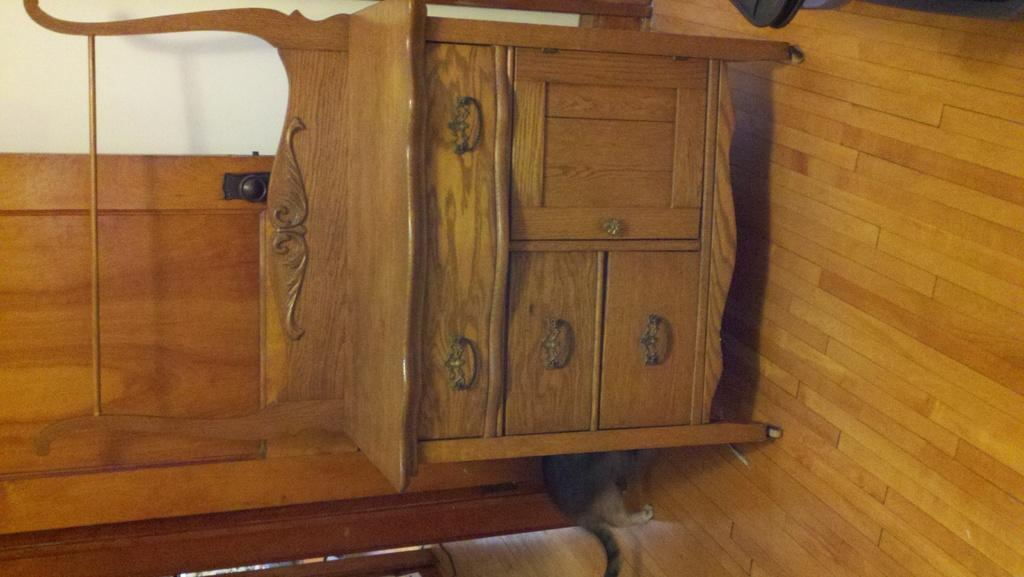cabinet_door: (510, 52, 704, 236), (430, 45, 494, 434), (605, 250, 696, 419), (510, 249, 594, 424)
handle: (542, 312, 580, 374), (448, 334, 482, 390), (636, 312, 670, 368), (458, 94, 486, 153), (236, 172, 270, 209), (596, 216, 626, 238)
